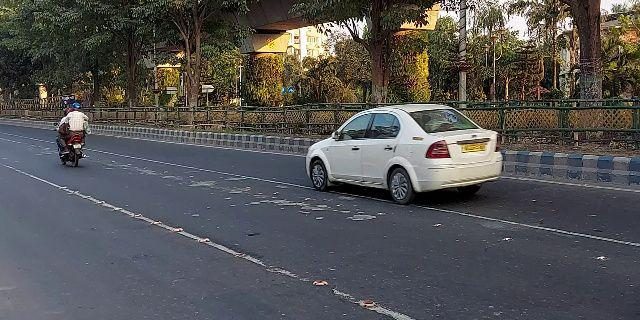Car: (302, 102, 504, 208), (53, 101, 93, 173)
